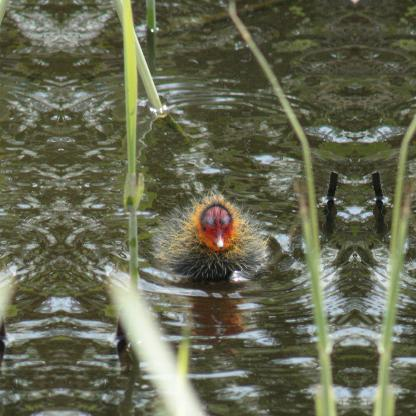Bird: (154, 192, 274, 286)
